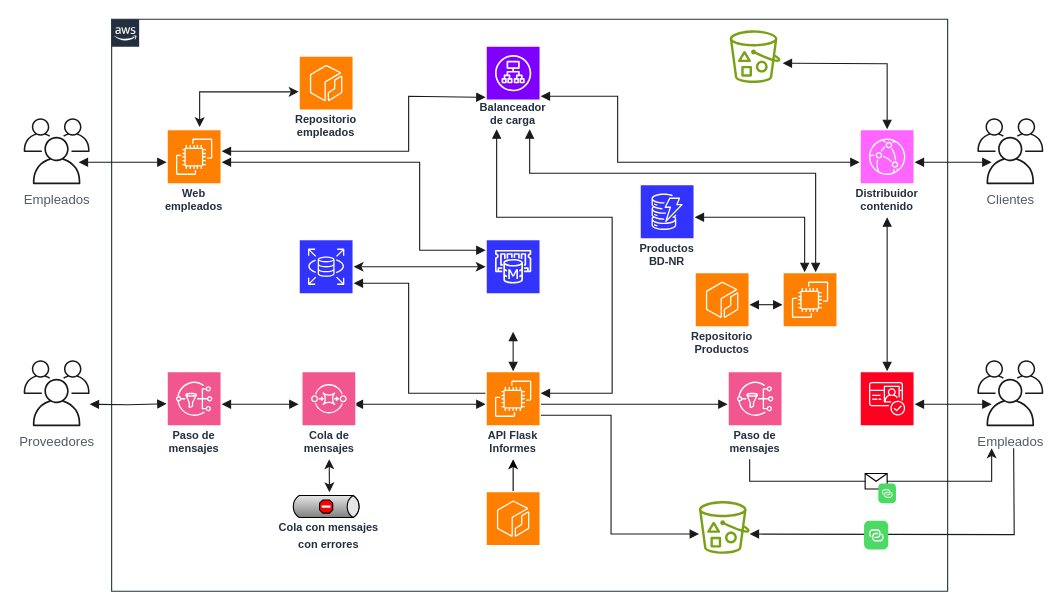
The diagram is 1062 pixels wide and 611 high, and some of its shapes have lost their labels. Here are the shapes that lost their labels. From the top down, the centre of each, then its label:
At (754,56): "Contenedor de la web de clientes".
At (326,282): "Café BD-SQL".
At (513,293): "Caché de Datos".
At (809,315): "API Flask Productos".
At (887,414): "Autenticación".
At (513,534): "Repositorio Informes".
At (723,527): "Contenedor de informes".
